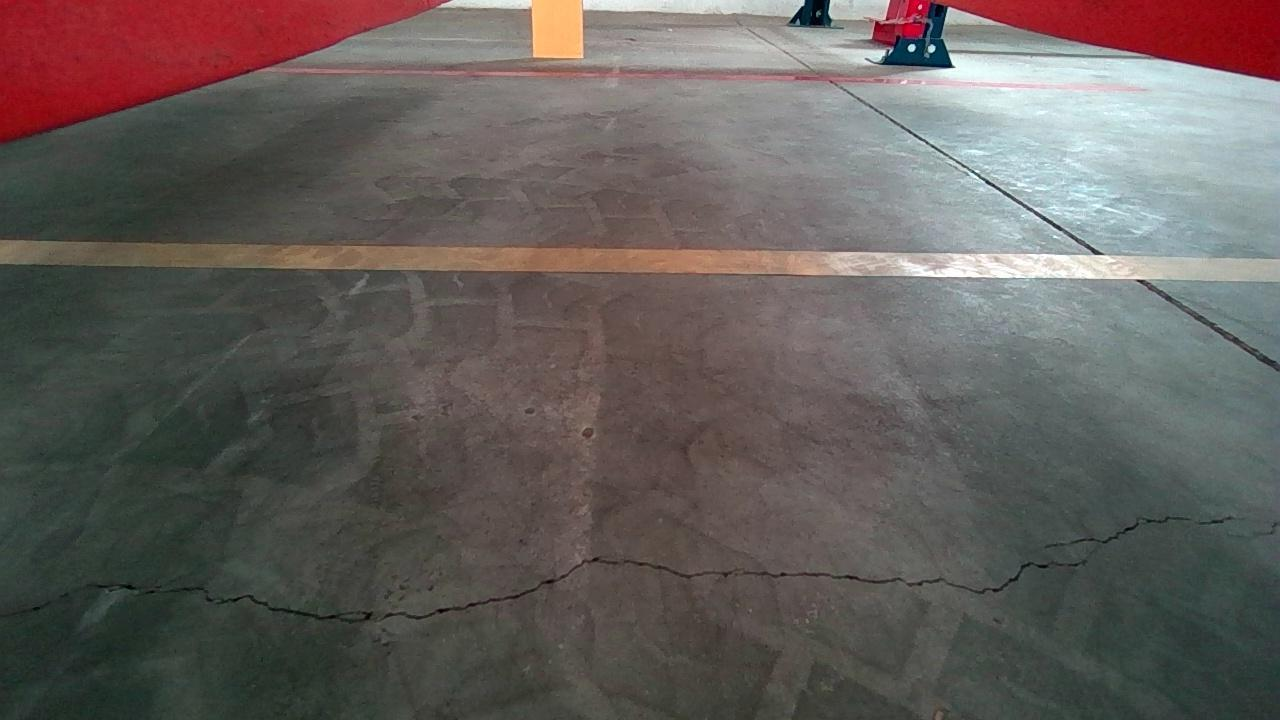orange_strip: (532, 0, 583, 55)
red_line: (254, 61, 1145, 90)
yellow_line: (1, 238, 1280, 281)
